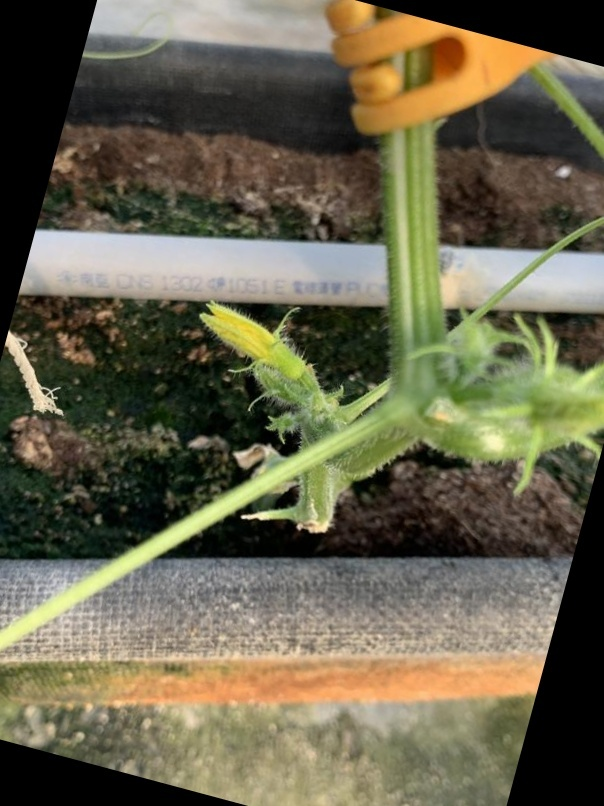bud: (197, 300, 310, 383)
